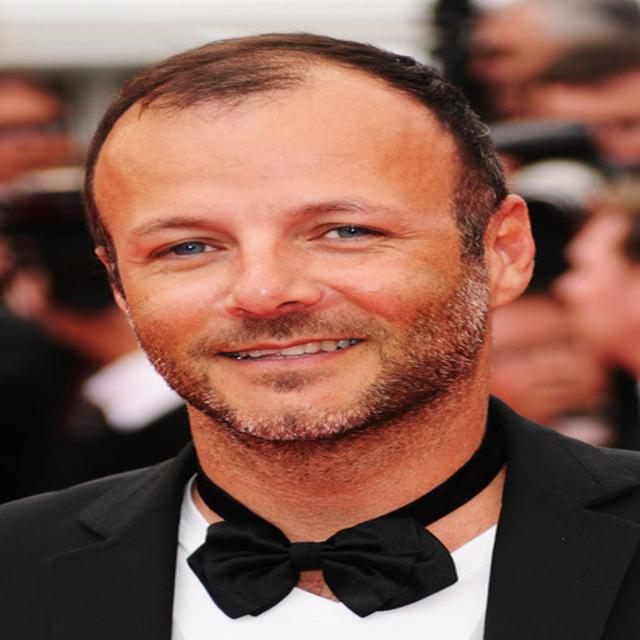Face: (93, 87, 509, 453)
